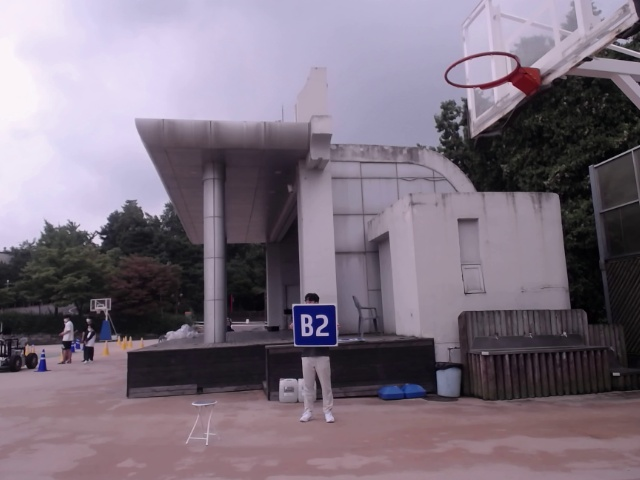delivery_b2: (292, 305, 338, 346)
